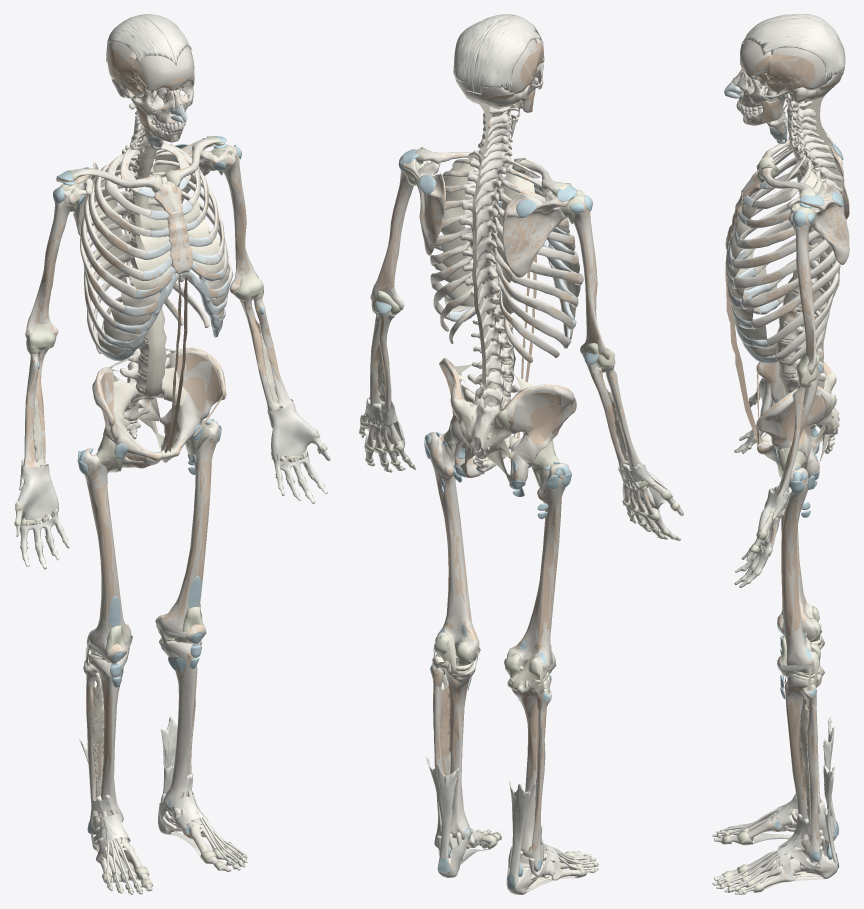
File: joints.glb
The picture shows the model from 3 angles, left to right: view 1: azimuth 30°, elevation 25°; view 2: azimuth 150°, elevation 25°; view 3: azimuth 270°, elevation 25°; orthographic projection. The views are drawn at different scales.
Visible parts, largest first — view 1: joints-99bbd1fad9bf, joints-58ede7f0af81, joints-28f17798255a, joints-aa3a7733c88a, joints-ebb15e1f4911, joints-b9d73c3c84a7, joints-5904807f8c7d, joints-a3e8f6d97e3a, joints-1ef48e94649f, joints-43545666d494, joints-8e8f88fe40d4, joints-bcf4932a0240 (+26 smaller); view 2: joints-b9d73c3c84a7, joints-1ef48e94649f, joints-ebb15e1f4911, joints-43545666d494, joints-cdbfb237d6bb, joints-28f17798255a, joints-3d9ccdd91ac3, joints-6758c46ff35d, joints-bcf4932a0240, joints-82c423a2d962, joints-392caa1c00b1, joints-77f8d358d003 (+25 smaller); view 3: joints-6758c46ff35d, joints-b9d73c3c84a7, joints-5904807f8c7d, joints-be120fd8fdab, joints-82c423a2d962, joints-392caa1c00b1, joints-6c8b3ad87302, joints-b613262452f7, joints-39d0b5da5d4c, joints-28f17798255a, joints-8aed1e17dd74, joints-adef6b509aa6 (+44 smaller).
Part boxes in pixels (x1,y1,x2,y2): joints-99bbd1fad9bf: (97, 214, 171, 354); joints-58ede7f0af81: (271, 414, 330, 503); joints-28f17798255a: (159, 640, 200, 810); joints-aa3a7733c88a: (16, 479, 69, 568); joints-ebb15e1f4911: (83, 448, 131, 652); joints-b9d73c3c84a7: (157, 420, 220, 637); joints-5904807f8c7d: (159, 347, 226, 462); joints-a3e8f6d97e3a: (134, 115, 166, 398); joints-1ef48e94649f: (106, 15, 175, 64); joints-43545666d494: (92, 367, 161, 468); joints-8e8f88fe40d4: (134, 46, 194, 92); joints-bcf4932a0240: (25, 190, 76, 338); joints-b9d73c3c84a7: (427, 431, 479, 661); joints-1ef48e94649f: (473, 15, 541, 94); joints-ebb15e1f4911: (507, 463, 570, 676); joints-43545666d494: (503, 384, 576, 485); joints-cdbfb237d6bb: (503, 190, 572, 277); joints-28f17798255a: (439, 661, 475, 839); joints-3d9ccdd91ac3: (441, 163, 475, 306); joints-6758c46ff35d: (453, 14, 513, 92); joints-bcf4932a0240: (573, 196, 610, 359); joints-82c423a2d962: (402, 159, 445, 255); joints-392caa1c00b1: (370, 169, 413, 310); joints-77f8d358d003: (425, 756, 458, 873); joints-6758c46ff35d: (742, 18, 845, 78); joints-b9d73c3c84a7: (781, 467, 817, 673); joints-5904807f8c7d: (757, 386, 832, 478); joints-be120fd8fdab: (725, 202, 777, 357); joints-82c423a2d962: (787, 184, 849, 264); joints-392caa1c00b1: (788, 210, 816, 374); joints-6c8b3ad87302: (803, 685, 820, 862); joints-b613262452f7: (786, 686, 805, 799); joints-39d0b5da5d4c: (781, 503, 792, 635); joints-28f17798255a: (785, 674, 821, 840); joints-8aed1e17dd74: (766, 54, 815, 86); joints-adef6b509aa6: (765, 47, 832, 90).
Size of the model in its own units: 0.6707 by 1.7 by 0.2501.
